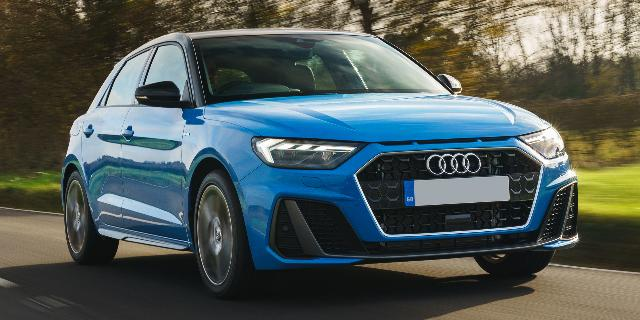audi: (61, 29, 580, 298)
